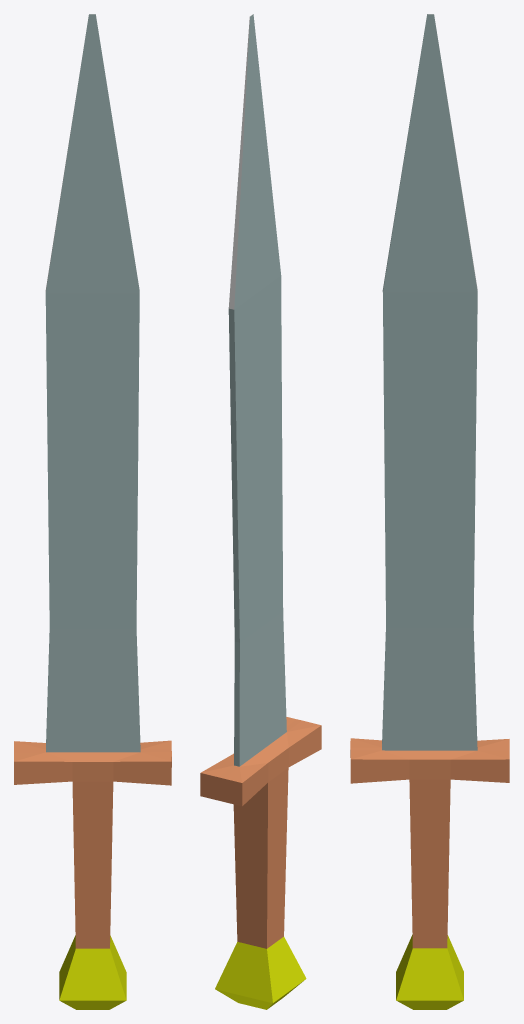
Rendered from sword.glb.
The picture shows the model from 3 angles, left to right: view 1: azimuth 90°, elevation 25°; view 2: azimuth 150°, elevation 25°; view 3: azimuth 270°, elevation 25°; orthographic projection.
Parts seen in each view (by area): view 1: sword; view 2: sword; view 3: sword.
Part boxes in pixels (x1,y1,x2,y2): sword: (14, 14, 171, 1009); sword: (200, 14, 321, 1009); sword: (350, 14, 509, 1009).
Bounding box in the file's own units: 0.3521 × 5.68 × 0.8251.
